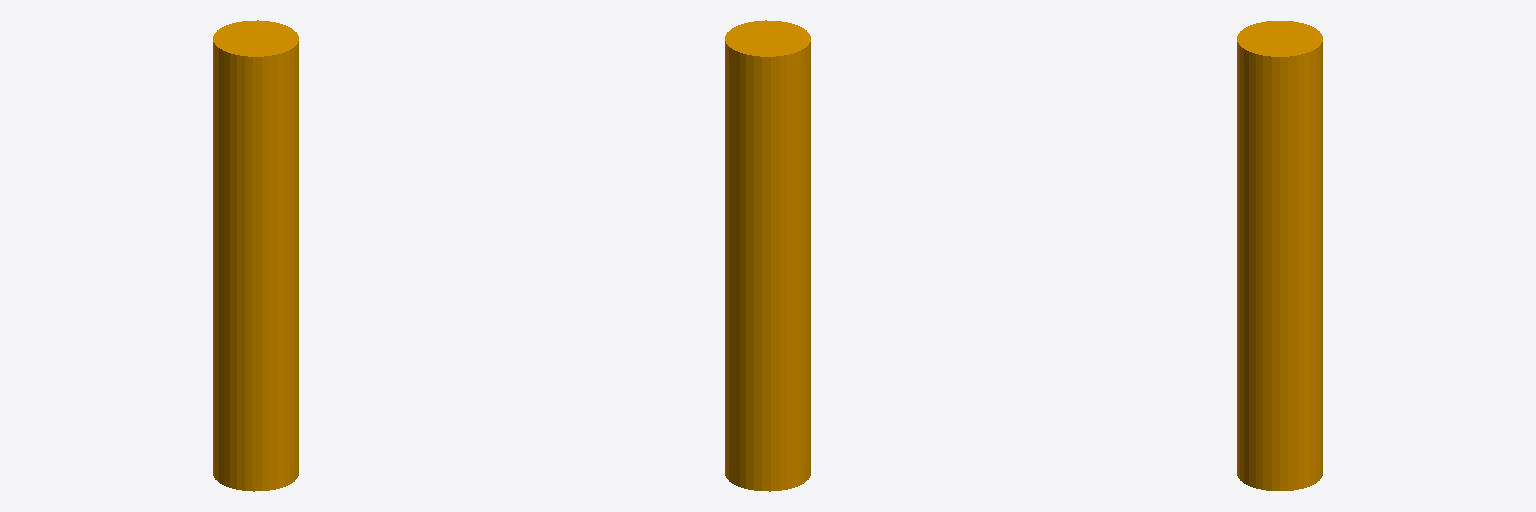
robot.urdf — blue_cylinder:
<?xml version="1.0"?>
<robot name="blue_cylinder">

<link name="base_link">
  <collision>
    <origin xyz="0 0 1.2" rpy="0 0 0"/>
    <geometry>
      <cylinder length="0.2" radius="0.018"/>
    </geometry>
  </collision>

  <visual>
    <origin xyz="0 0 1.2" rpy="0 0 0"/>
    <geometry>
      <cylinder length="0.2" radius="0.018"/>
    </geometry>
  </visual>

  <inertial>
    <origin xyz="0 0 1.2" rpy="0 0 0"/>
    <mass value="0.01"/>
    <inertia
      ixx="1e-5" ixy="0.0" ixz="0.0"
      iyy="1e-5" iyz="0.0"
      izz="1e-5"/>
  </inertial>
</link>

<gazebo reference="base_link">
  <static>true</static>
  <material>Gazebo/White</material>
  <mu1>5</mu1>
  <mu2>5</mu2>

  <kp>500000.0</kp>
  <kd>500.0</kd>

</gazebo>



</robot>

--- Facts derived from the render (not from the file) ---
Views: 3 orthographic renders of the robot side by side, from view 1: azimuth 30°, elevation 25°; view 2: azimuth 150°, elevation 25°; view 3: azimuth 270°, elevation 25°.
Model blue_cylinder with 1 links and 0 joints (none), rooted at base_link, posed every joint at zero.
Links seen in each view (by area): view 1: base_link; view 2: base_link; view 3: base_link.
Link boxes in pixels (x1=…): base_link: x1=213, y1=20, x2=298, y2=491; base_link: x1=725, y1=20, x2=810, y2=491; base_link: x1=1237, y1=21, x2=1322, y2=490.
Size in the robot's own frame: 0.036 by 0.036 by 0.2 metres.
Geometry: primitives only (box / cylinder / sphere), no mesh files.
